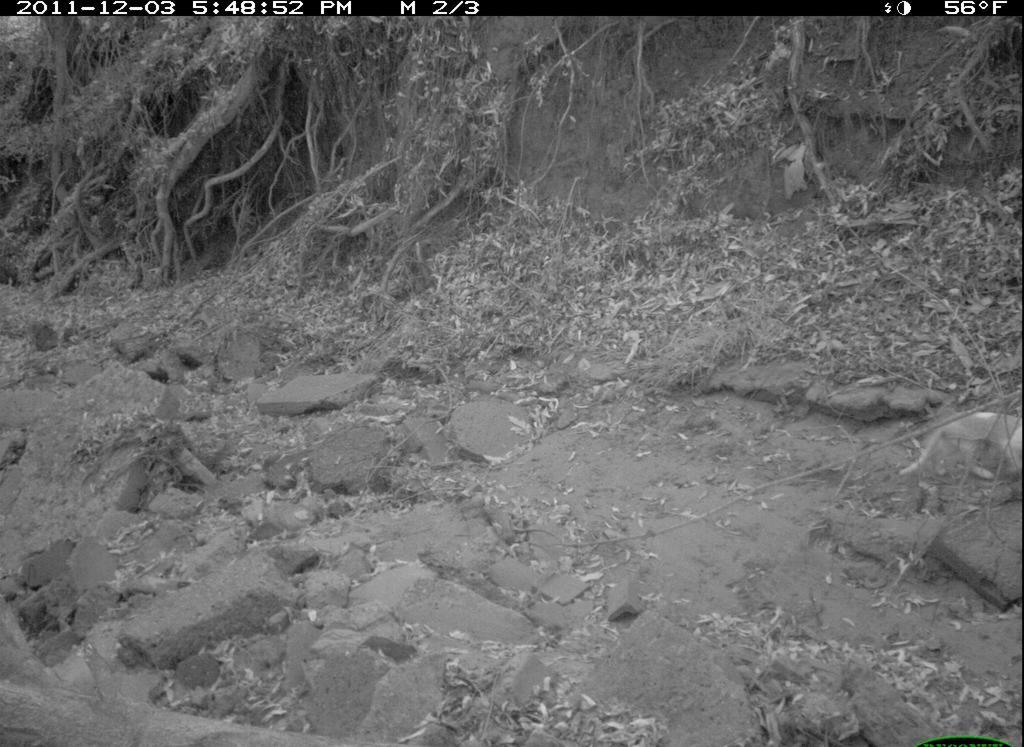cat: (891, 409, 1022, 489)
